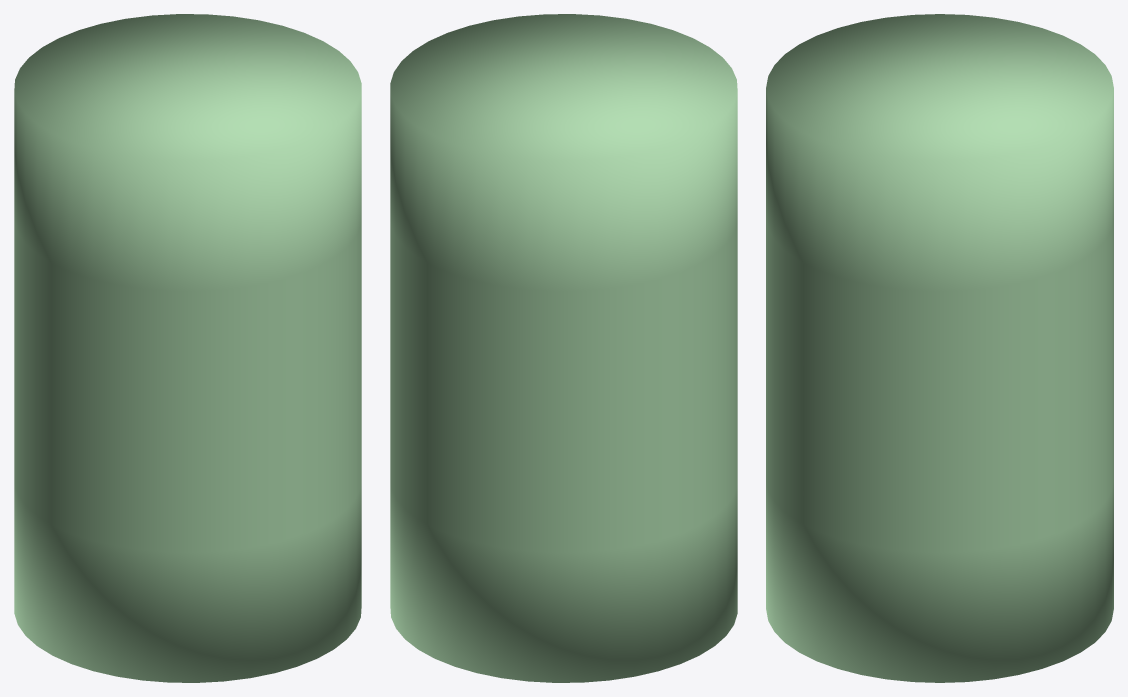
Rendered from gan_cylinder.glb.
The picture shows the model from 3 angles, left to right: view 1: azimuth 30°, elevation 25°; view 2: azimuth 150°, elevation 25°; view 3: azimuth 270°, elevation 25°; orthographic projection.
Size of the model in its own units: 1.05 by 1.74 by 1.05.
